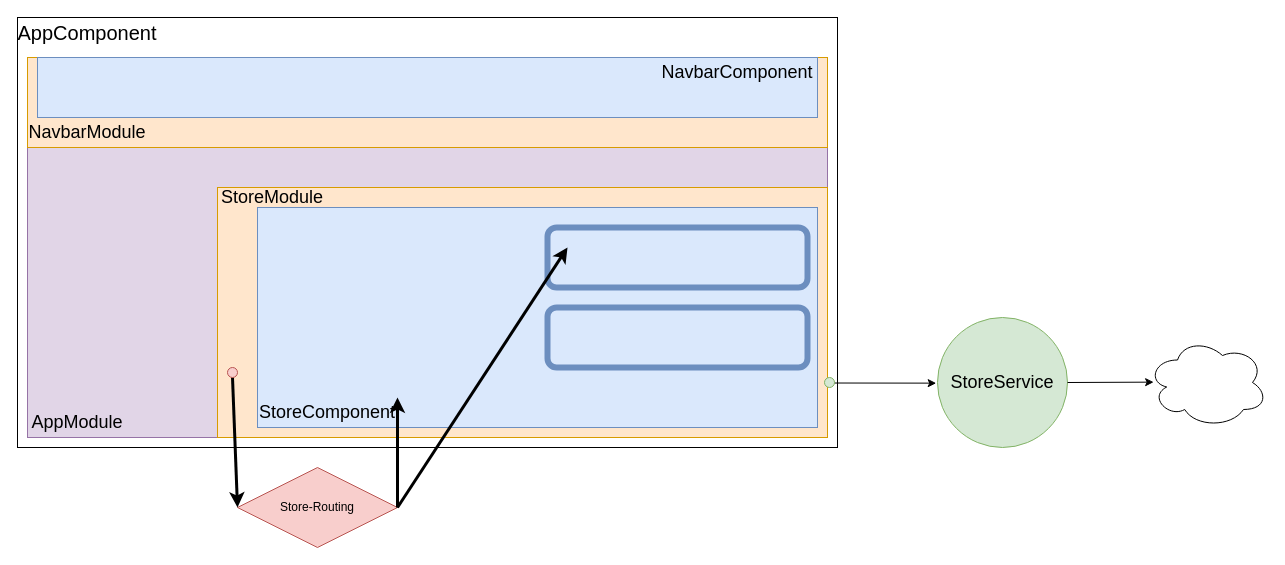
This 1285x565 diagram has some shape labels left out. The centre of each missing label's shape, as x and y in pixels:
"HTTP requests" goes at (1207,382).
"ProductItemComponent" goes at (677,257).
